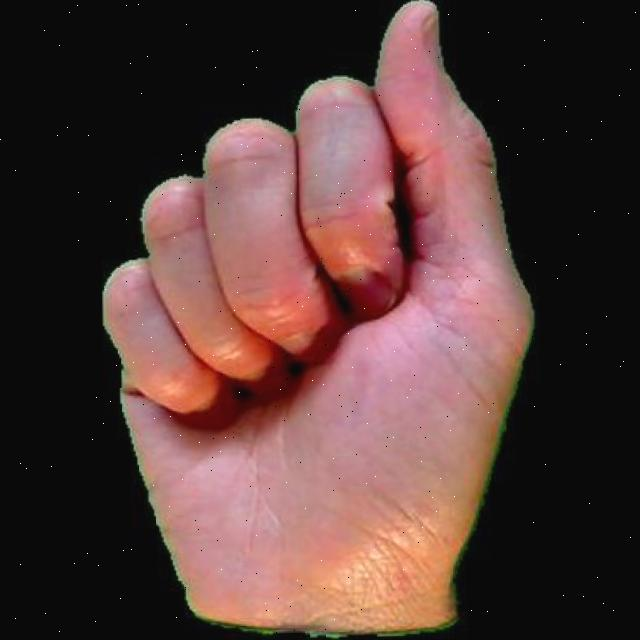a: (93, 0, 541, 640)
